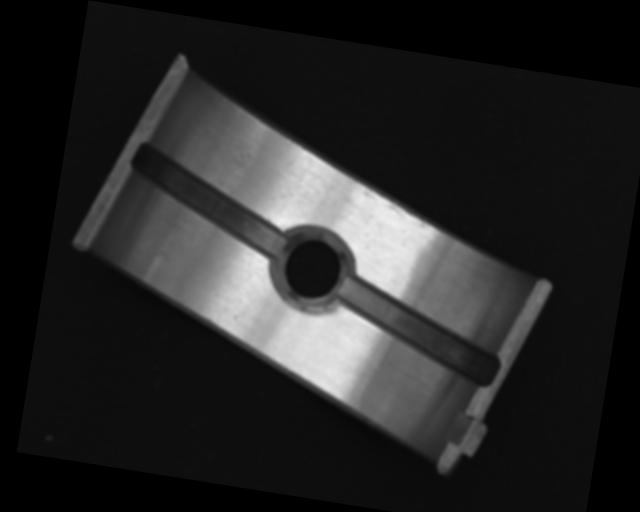gap: (119, 141, 300, 259), (330, 274, 507, 386)
hole: (270, 223, 355, 314)
